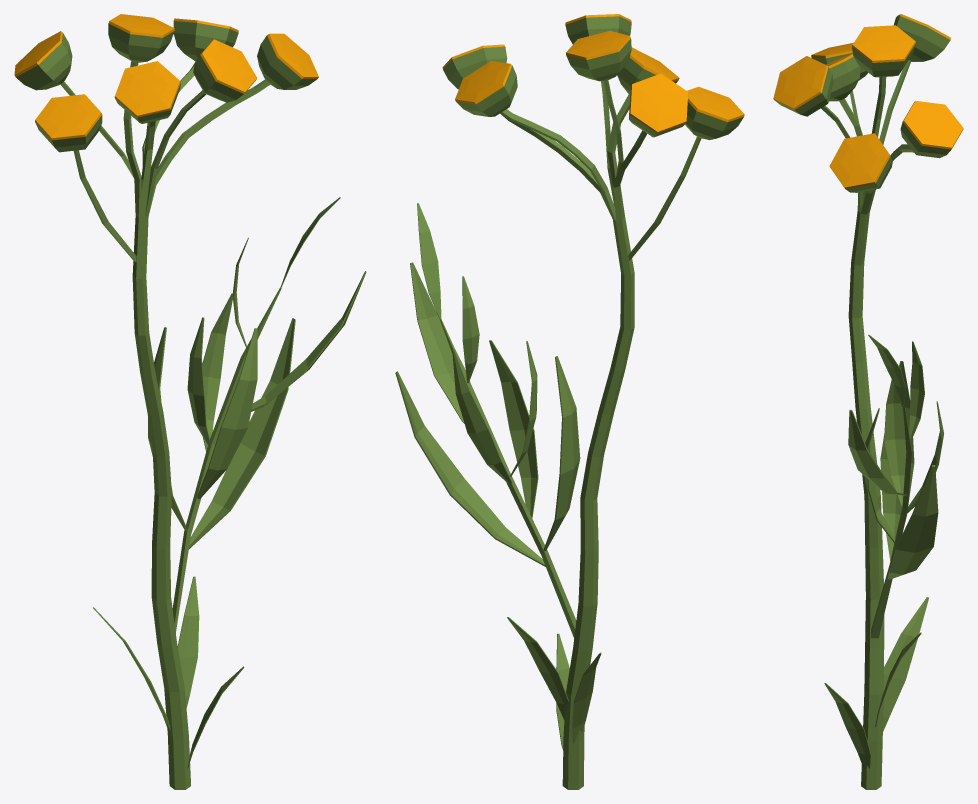
Rendered from plant_01.fbx.
3 renders of one model, left to right at view 1: azimuth 30°, elevation 25°; view 2: azimuth 150°, elevation 25°; view 3: azimuth 270°, elevation 25°, orthographic. The views are drawn at different scales.
Visible parts, largest first — view 1: Circle.002; view 2: Circle.002; view 3: Circle.002.
Boxes of the visible parts, x1,y1,x2,y2 form: Circle.002: [14, 14, 366, 789]; Circle.002: [395, 14, 744, 789]; Circle.002: [773, 14, 963, 789].
Bounding box in the file's own units: 13.92 × 31.34 × 7.36.
